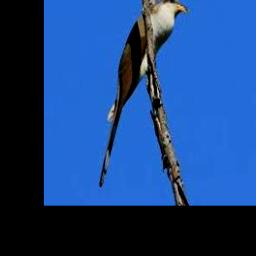Cuckoo: (99, 0, 188, 187)
